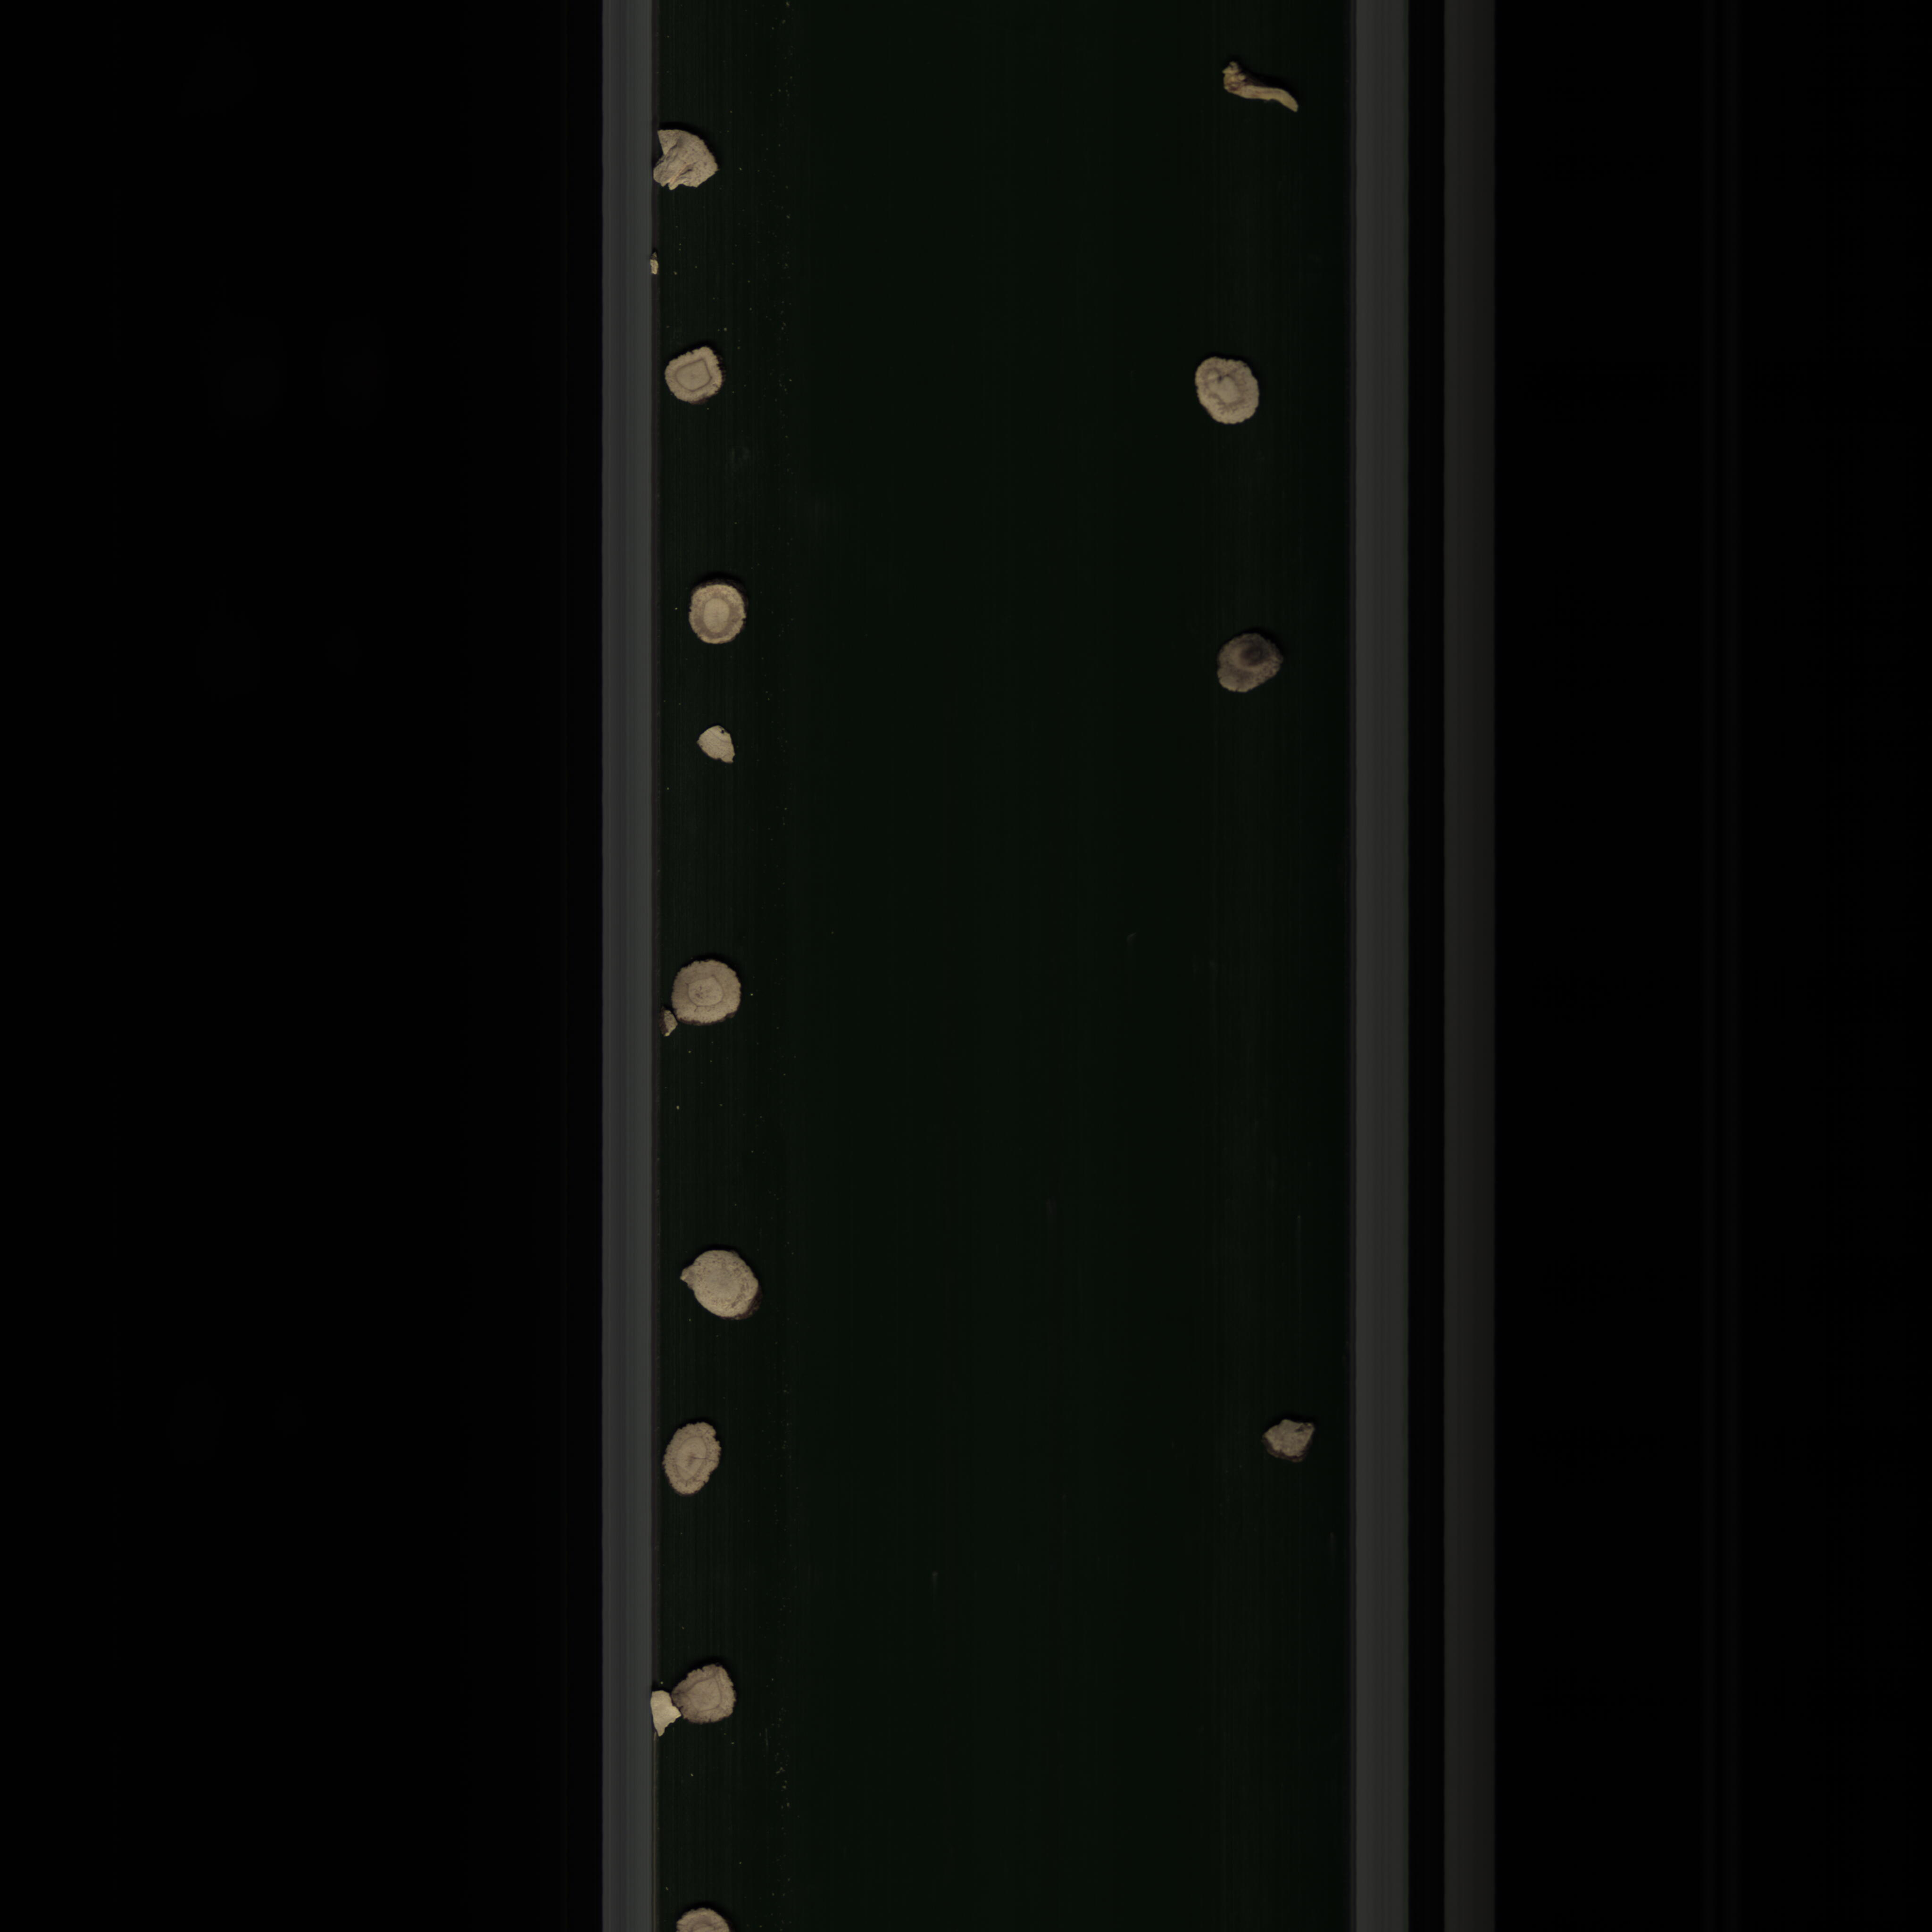bark: (1219, 55, 1304, 124)
debris: (648, 122, 725, 202), (692, 718, 743, 771), (646, 1691, 685, 1741)
distortion: (674, 1246, 768, 1327)
moldy: (1210, 625, 1288, 701), (672, 1658, 745, 1729), (1253, 1417, 1320, 1467)
